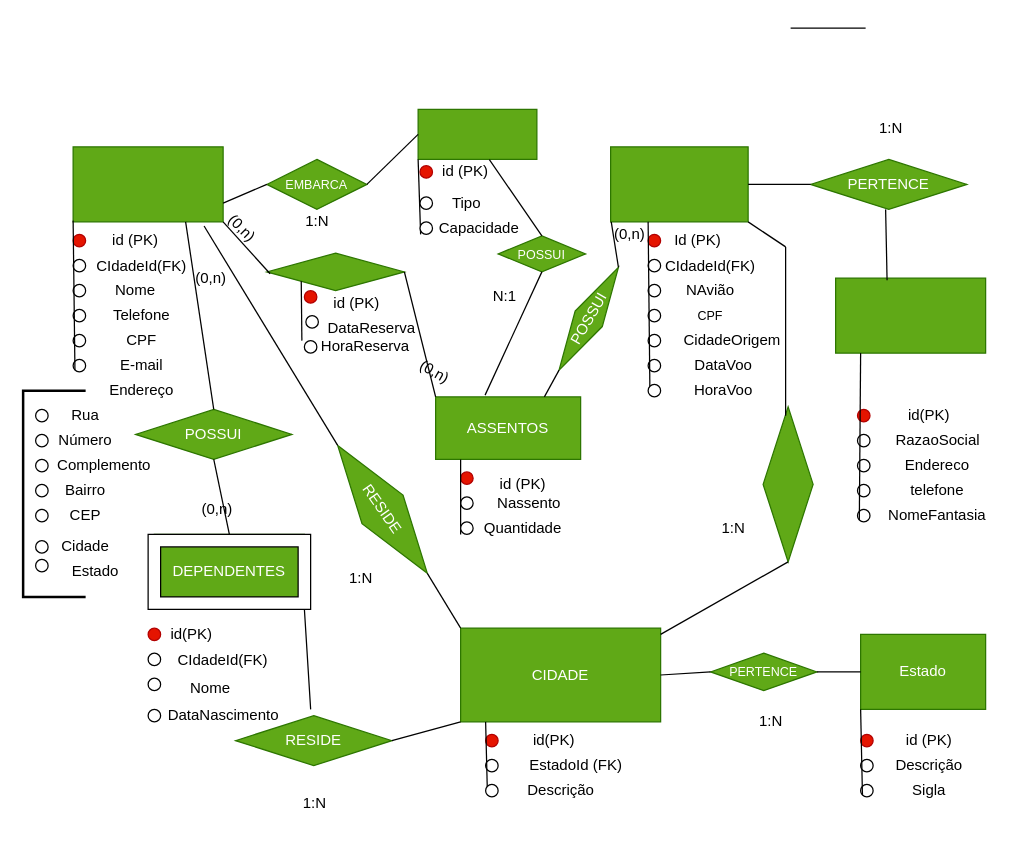
Some shapes in this 1011 by 844 pixel diagram are drawn without their labels. The centre of each missing label's shape, as x and y in pixels:
"AVIÃO" belongs at [477,133].
"DESTINA" belongs at [787,484].
"EMPRESA" belongs at [910,315].
"PASSAGEIRO" belongs at [147,184].
"RESERVA" belongs at [335,271].
"VOO" belongs at [678,184].
